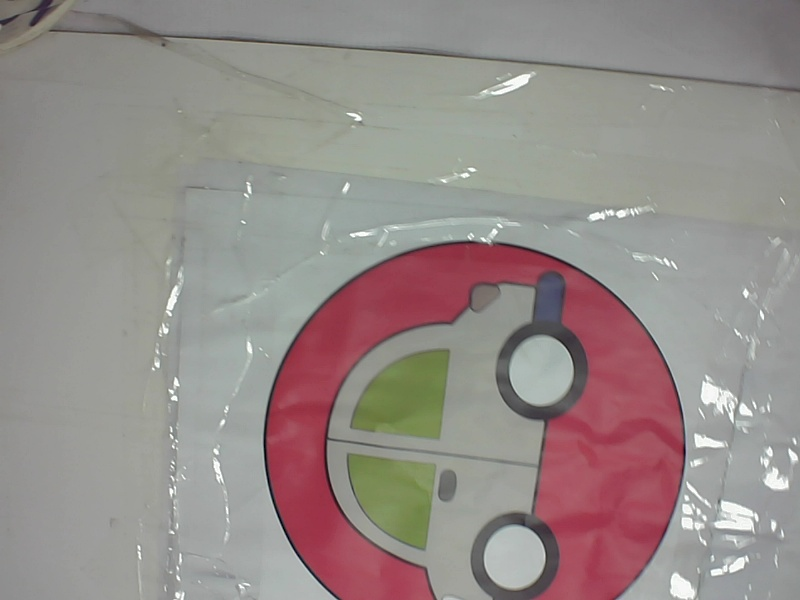areaC: (242, 234, 691, 597)
